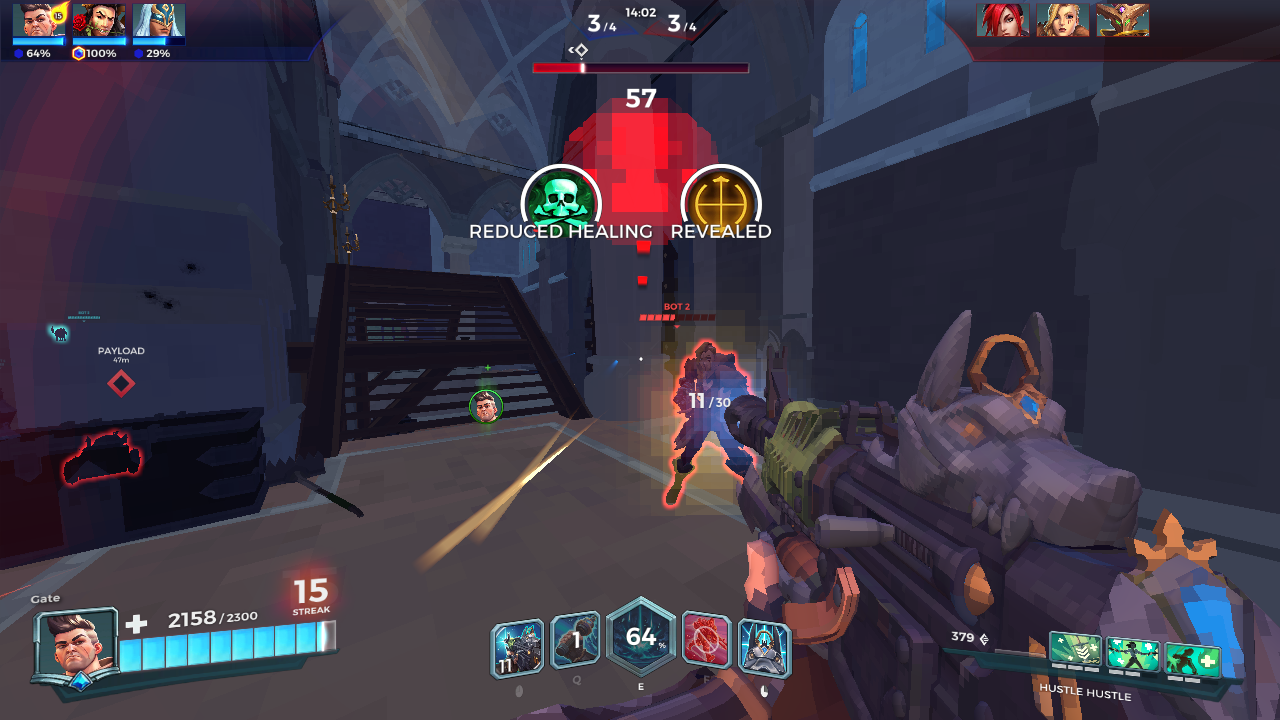model: (664, 329, 735, 498)
